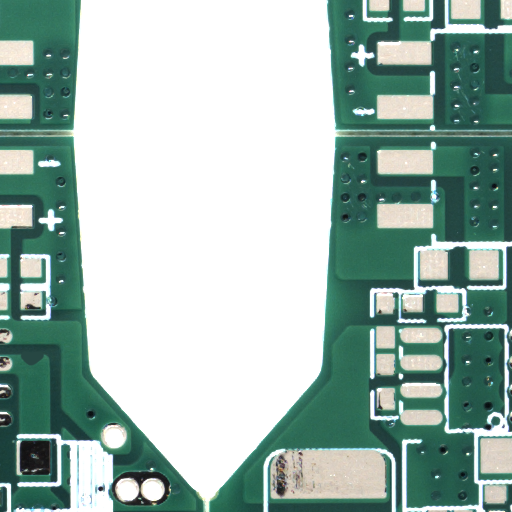Mouse_bite: (31, 360, 55, 374)
